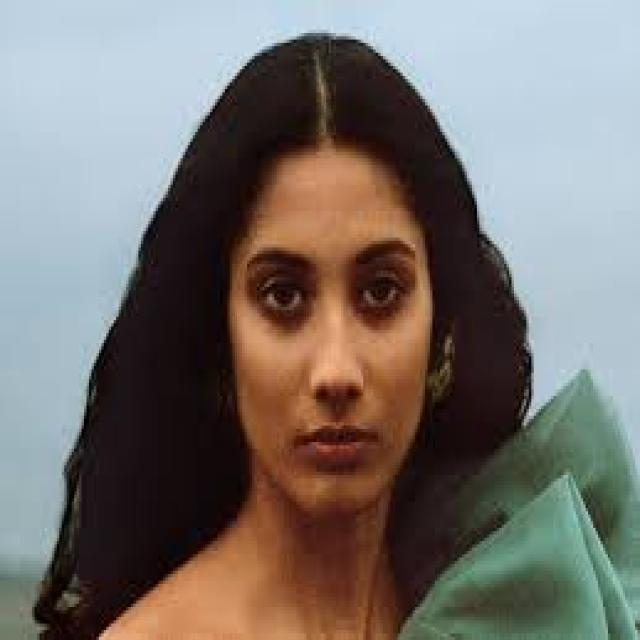high: (261, 308, 308, 336), (363, 300, 403, 328)
